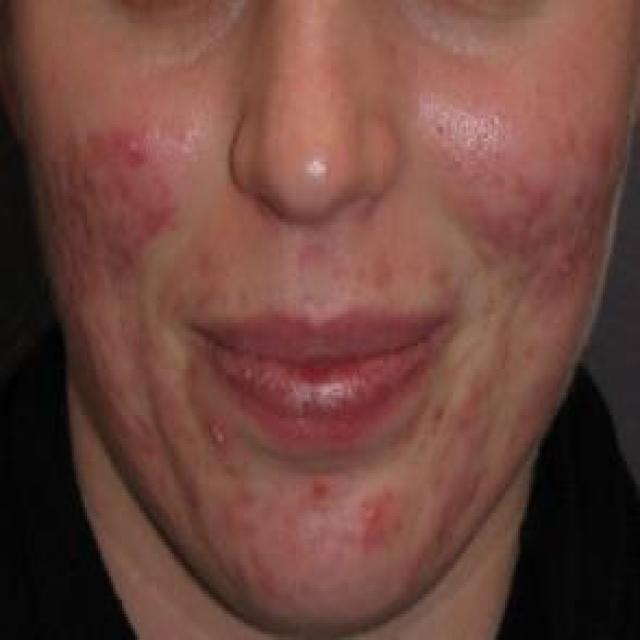Acne: (358, 486, 406, 556), (250, 550, 300, 613), (542, 234, 588, 299), (134, 183, 176, 241), (117, 125, 152, 174), (515, 174, 555, 216), (307, 466, 337, 514), (204, 412, 232, 457), (182, 477, 204, 515)
